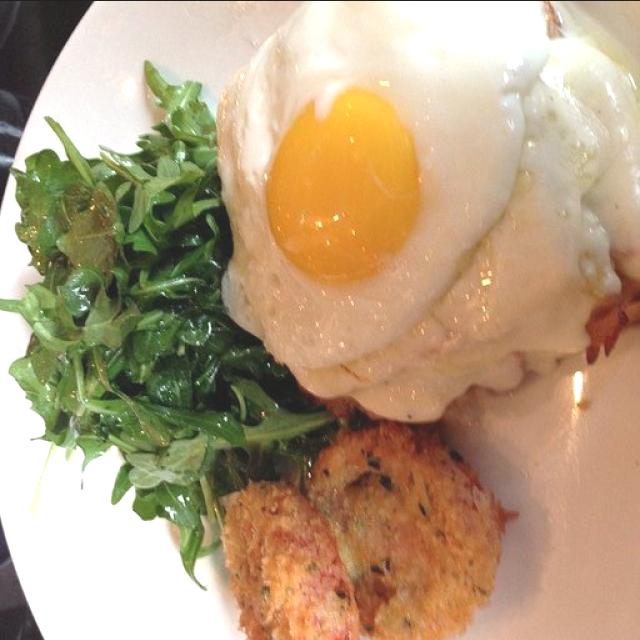telur ceplok: (218, 0, 552, 380)
